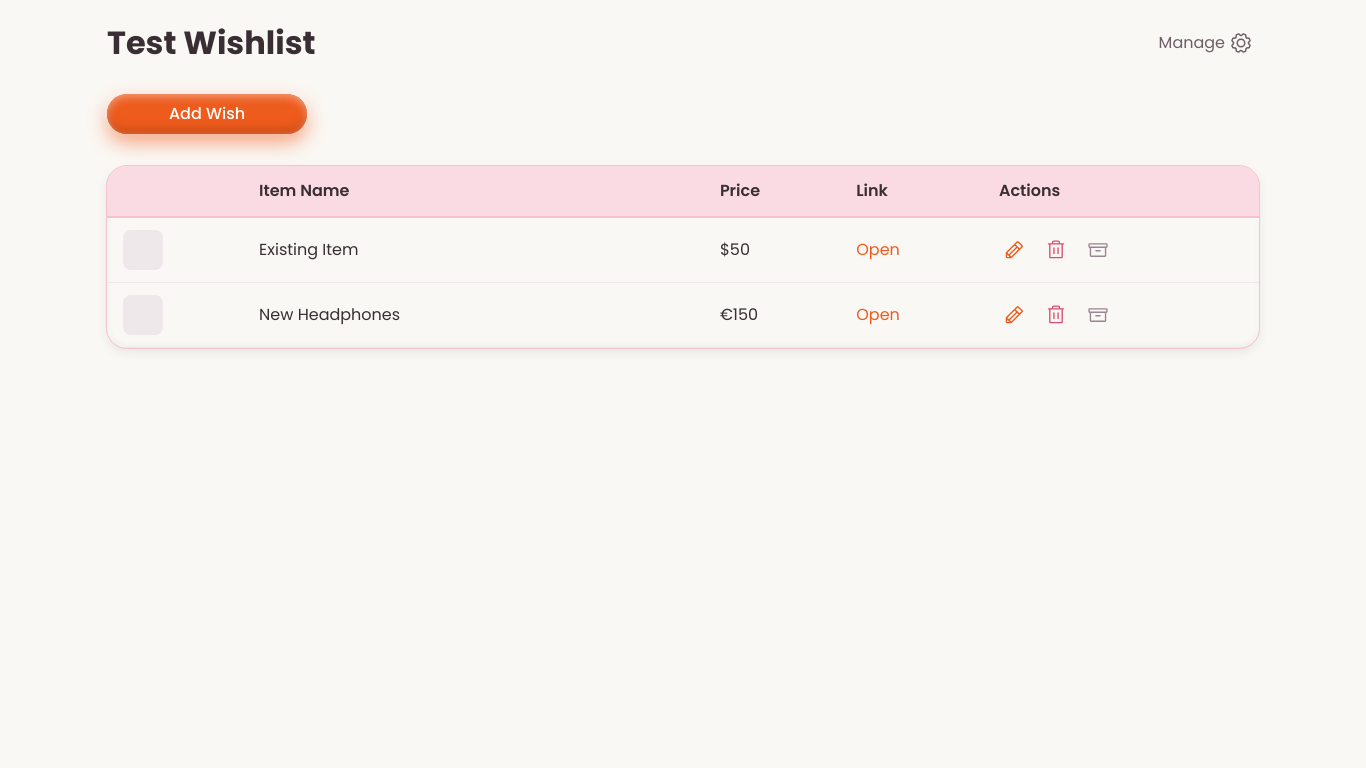
Test: WishlistPage › adds new item when form is submitted
The width and height of the screenshot is (1366, 768).
Check: the heading "Test Wishlist" is shown, box [107,24,316,62]
Click the button with test id "wishlist-add-button".
click(207, 114)  # box [107,94,307,134]
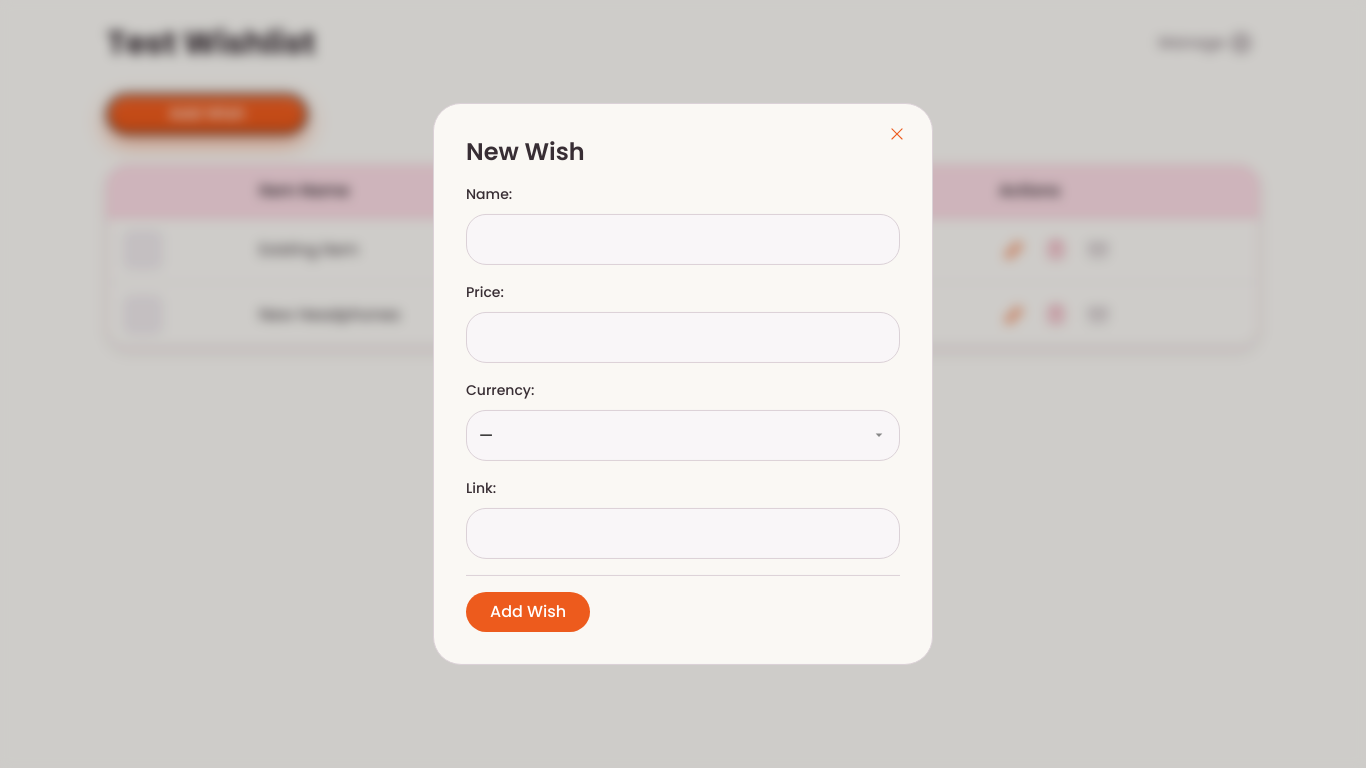
Type "New Headphones" into the field with test id "add-item-modal-name-input".
click(683, 239); type("New Headphones")  # box [466,214,900,265]
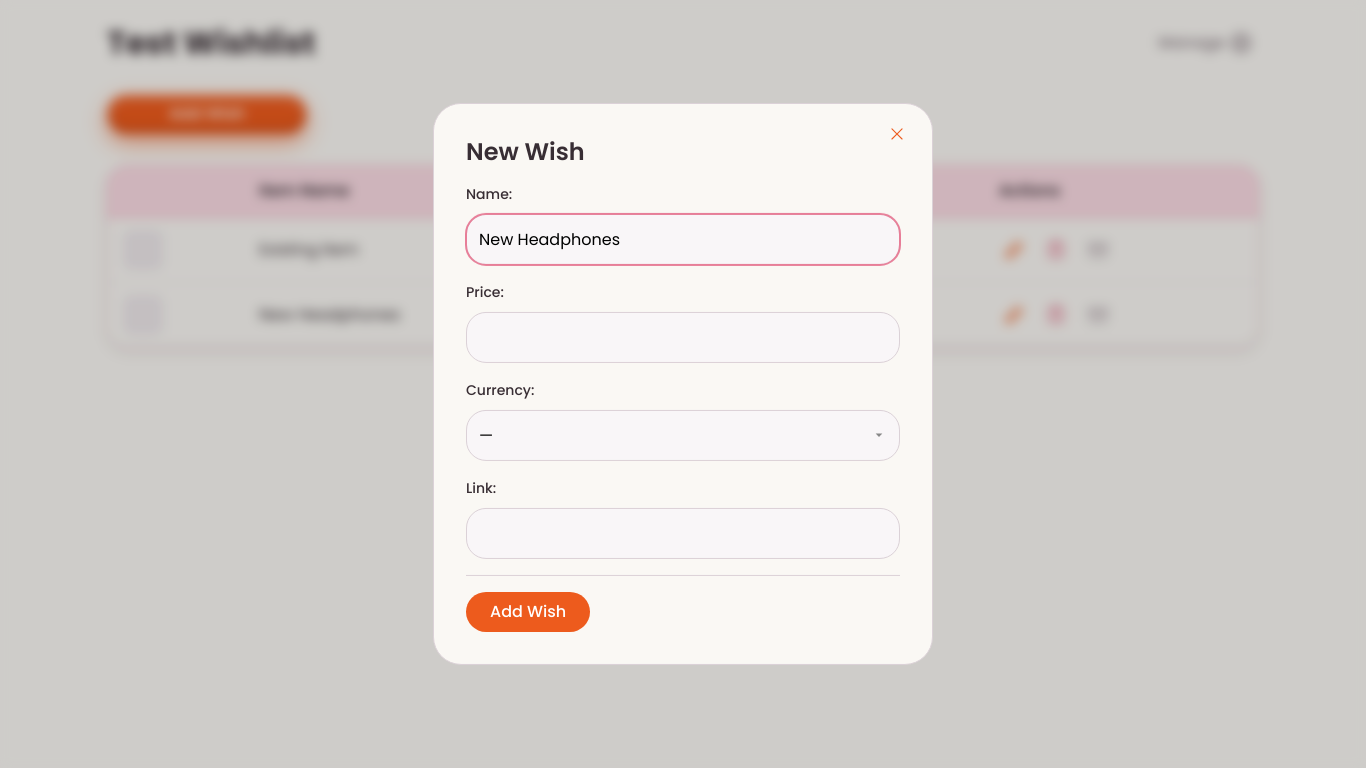
Type "150" into the number field with test id "add-item-modal-price-input".
click(683, 337); type("150")  # box [466,312,900,363]
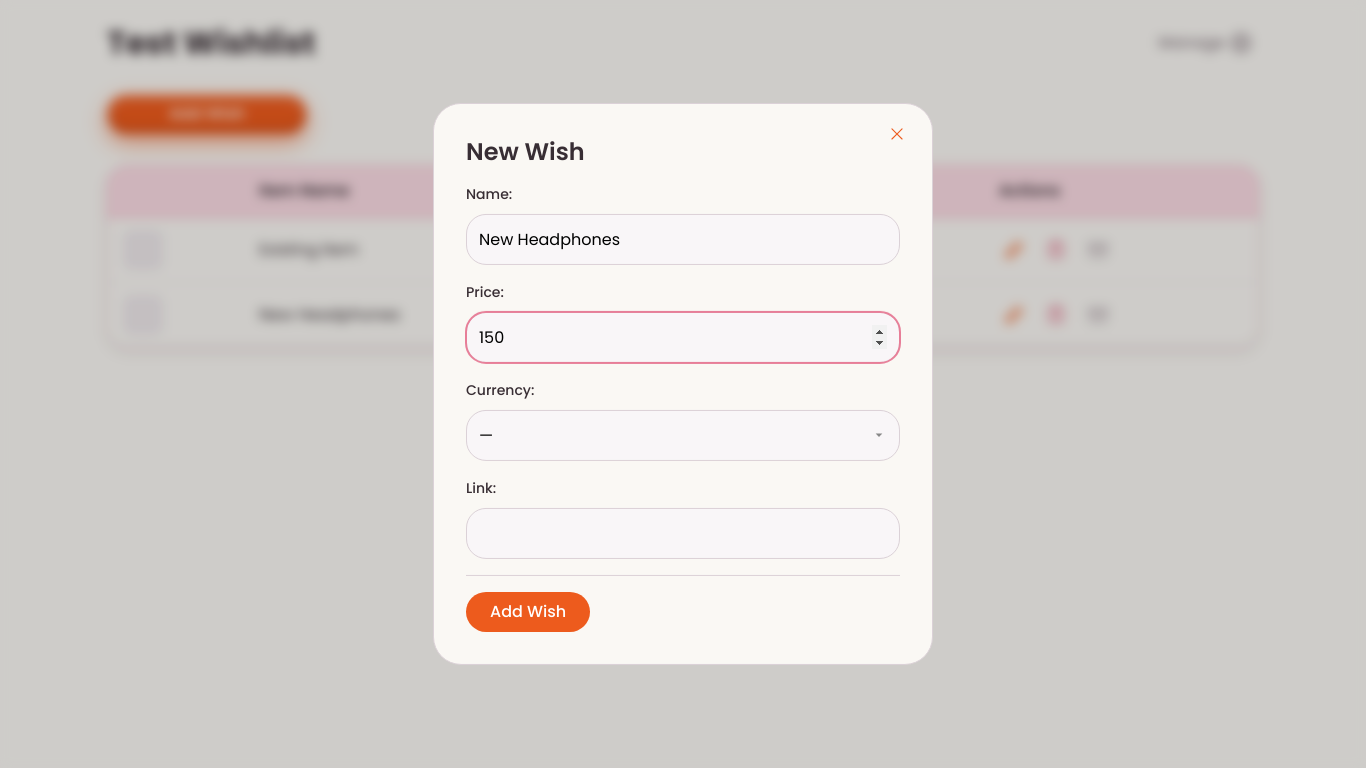
Select "EUR" in the dropdown with test id "add-item-modal-currency-select" at (683, 435), box [466,410,900,461]
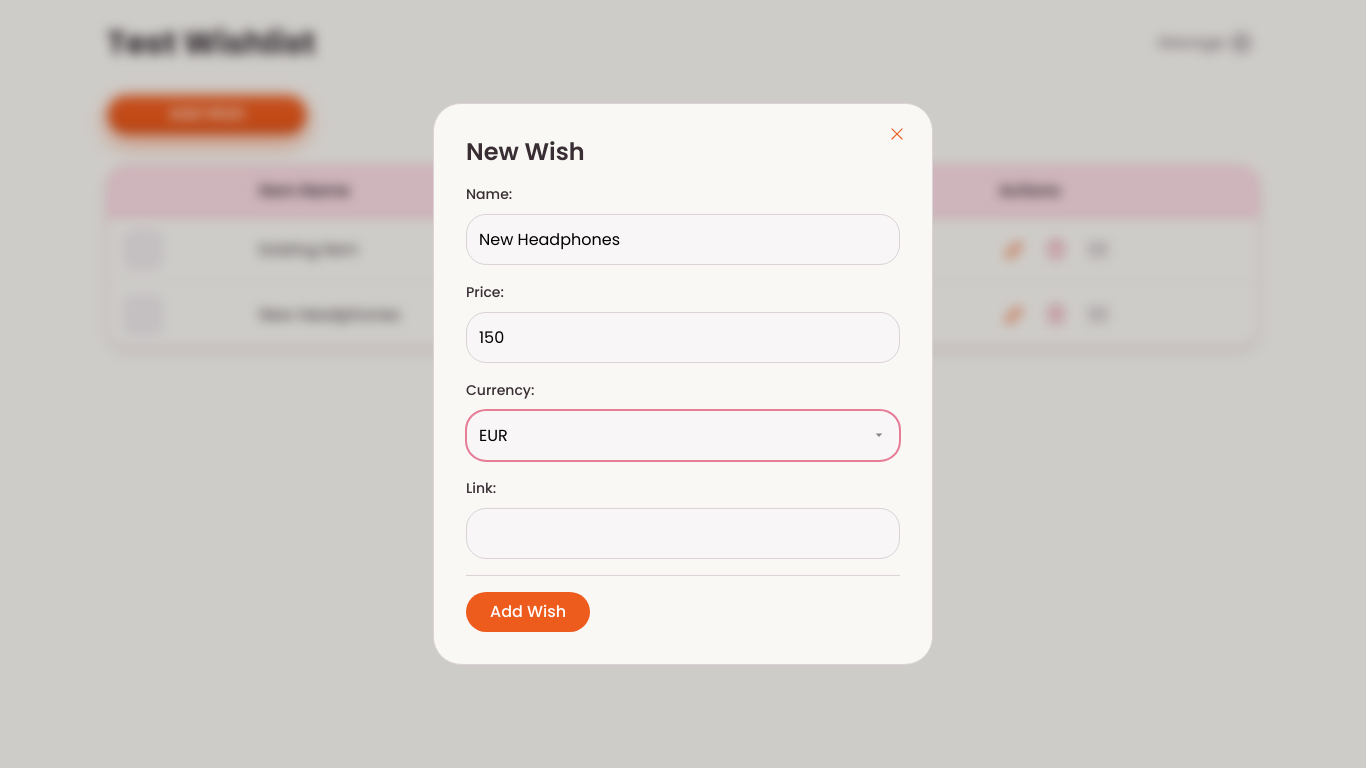
Type "https://new.de" into the field with test id "add-item-modal-link-input".
click(683, 533); type("https://new.de")  # box [466,508,900,559]
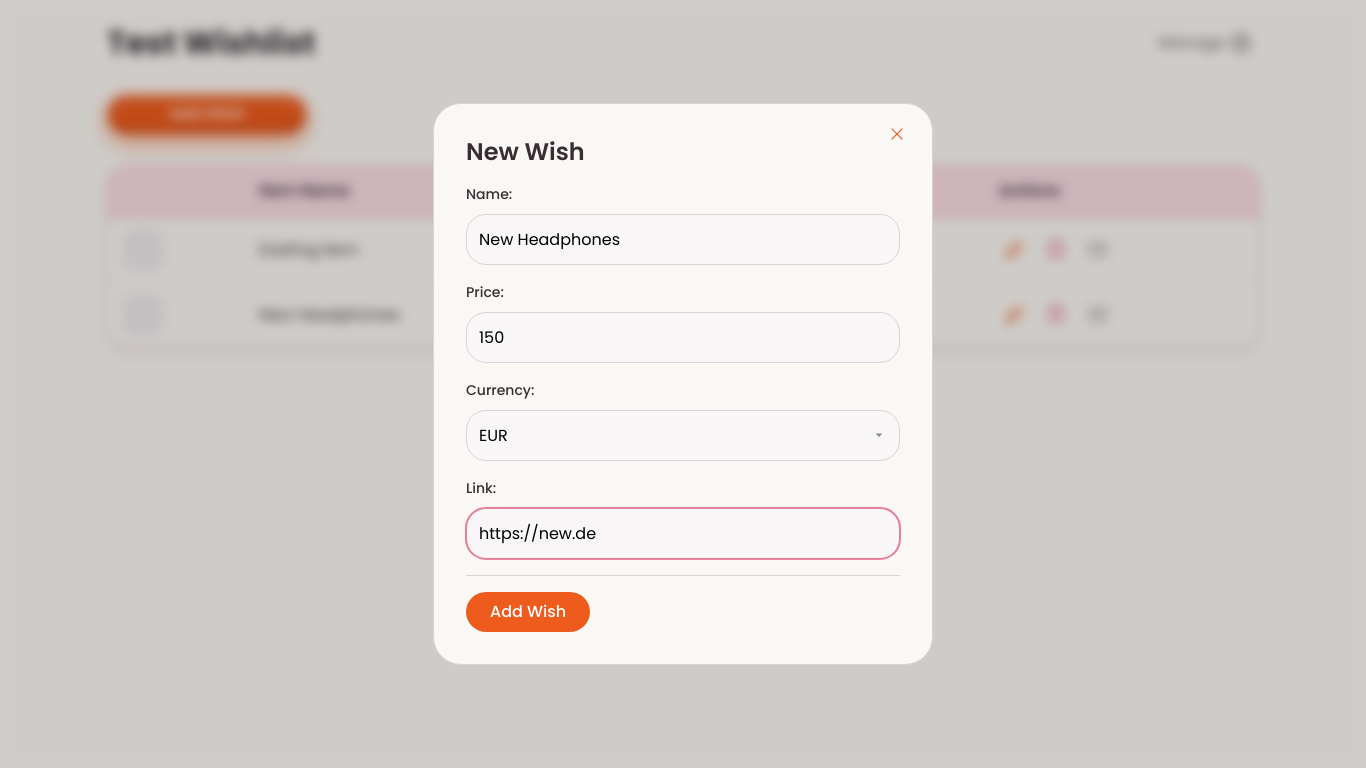
Click the button with test id "add-item-modal-submit-button".
click(528, 612)  # box [466,592,590,632]
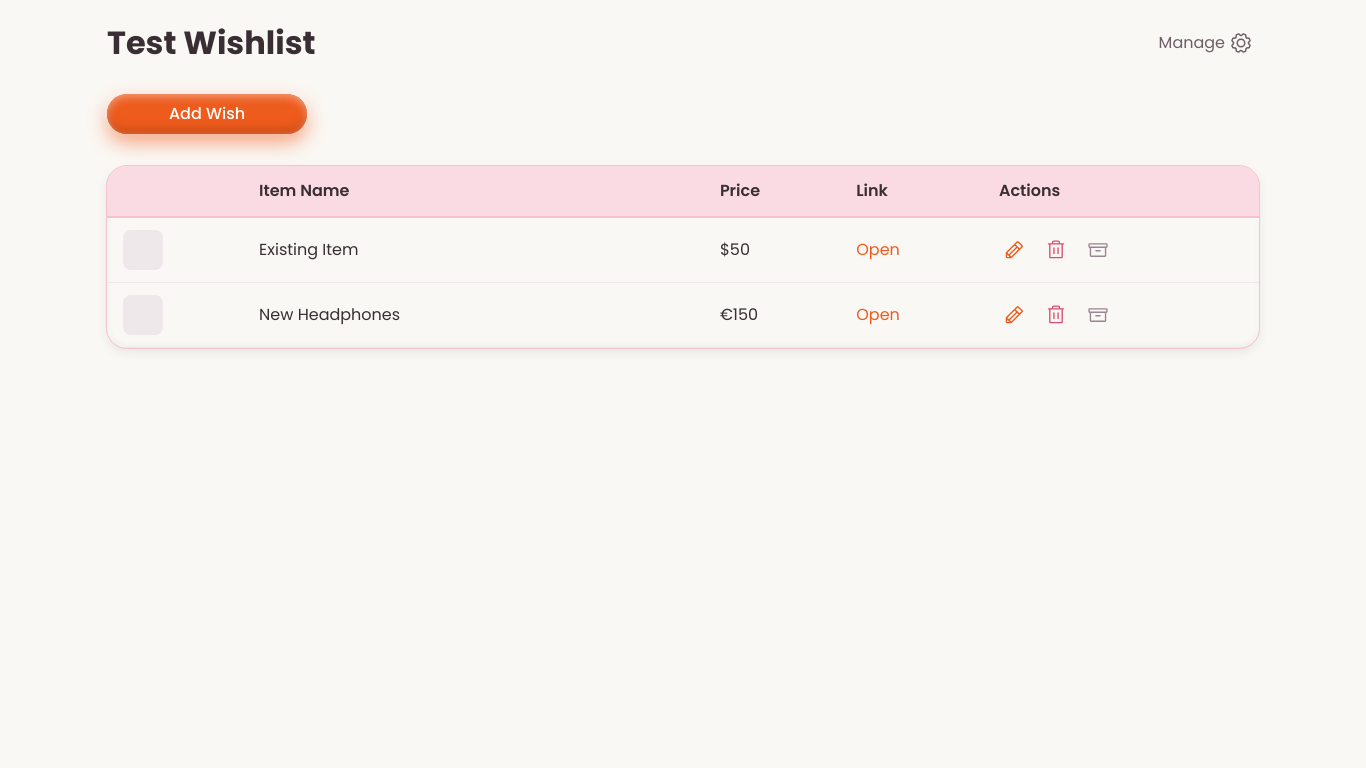
Check: the text "New Headphones" is shown, box [243,282,704,348]
Check: the field with test id "add-item-modal-name-input" is gone
